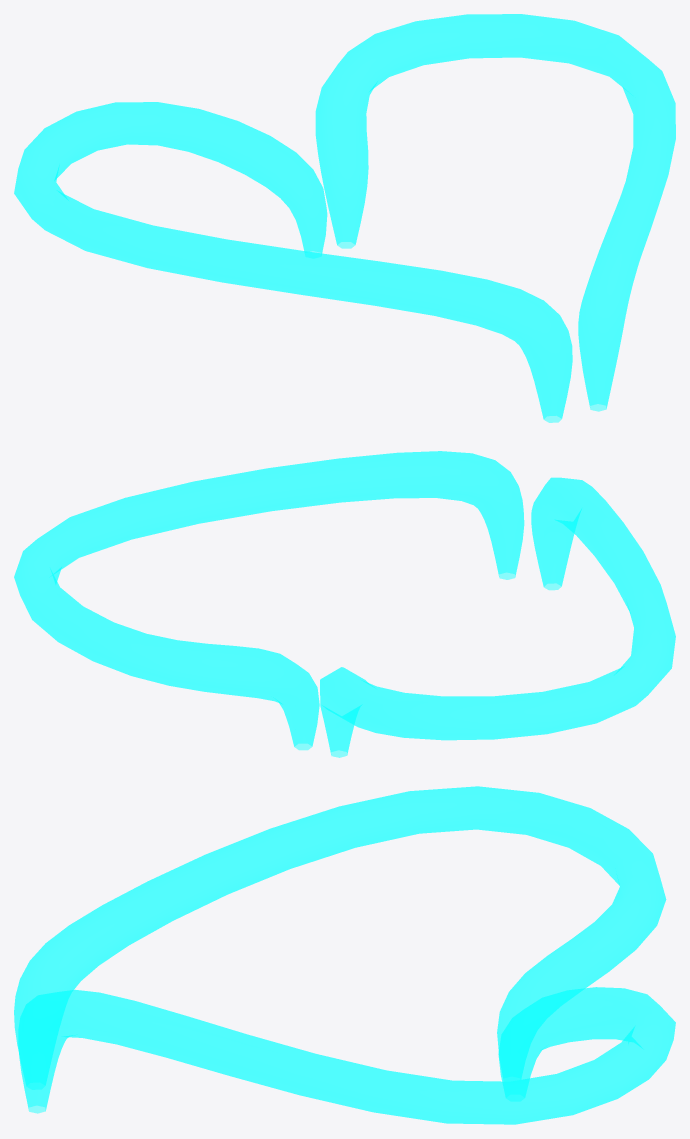
The model's file is heart-light-sign.glb.
3 renders of one model, top to bottom at view 1: azimuth 30°, elevation 25°; view 2: azimuth 150°, elevation 25°; view 3: azimuth 270°, elevation 25°, orthographic. The views are drawn at different scales.
Visible parts, largest first — view 1: neon_heart.007_178; view 2: neon_heart.007_178; view 3: neon_heart.007_178.
Boxes of the visible parts, x1,y1,x2,y2 form: neon_heart.007_178: (14,14,675,422); neon_heart.007_178: (14,451,675,757); neon_heart.007_178: (14,786,675,1124).
Bounding box in the file's own units: 1.74 × 0.389 × 1.55.
